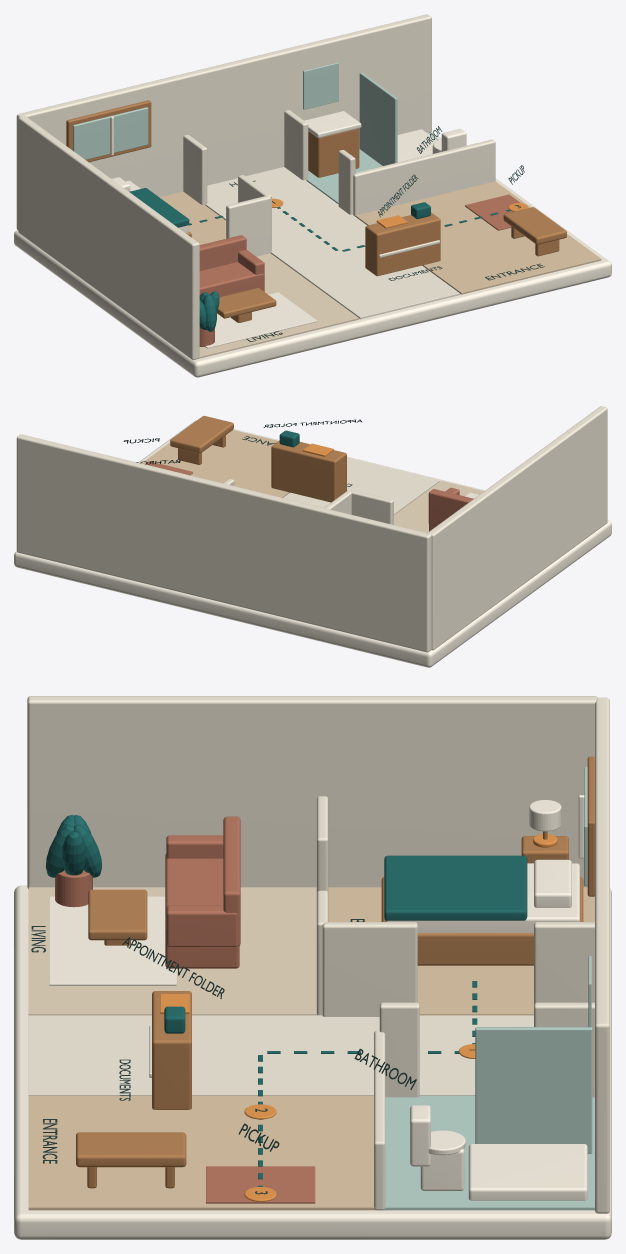
File: home.glb
3 renders of one model, top to bottom at view 1: azimuth 30°, elevation 25°; view 2: azimuth 150°, elevation 25°; view 3: azimuth 270°, elevation 25°, orthographic. The views are drawn at different scales.
Visible parts, largest first — view 1: Back wall, West wall, HALL floor, Apartment base, ENTRANCE floor, Bathroom front wall, LIVING floor, Document shelf, Shower divider, Window glass, Rug, Bedroom partition east (+17 smaller); view 2: Back wall, West wall, Apartment base, ENTRANCE floor, Document shelf, HALL floor, Entry bench, LIVING floor, Bedroom partition east, Sofa back, Bedroom hall wall south; view 3: West wall, ENTRANCE floor, HALL floor, Apartment base, LIVING floor, Shower divider, Duvet, Bedroom hall wall south, BATHROOM floor, BEDROOM floor, Back wall, Rug (+28 smaller).
Part boxes in pixels (x1,y1,x2,y2): Back wall: (16,14,431,230); West wall: (18,116,199,360); HALL floor: (205,167,459,319); Apartment base: (14,131,611,377); ENTRANCE floor: (355,181,601,294); Bathroom front wall: (353,139,495,216); LIVING floor: (199,253,358,358); Document shelf: (365,212,440,276); Shower divider: (359,72,397,165); Window glass: (73,107,148,159); Rug: (205,292,317,348); Bedroom partition east: (226,196,270,256); Back wall: (16,434,431,652); West wall: (427,406,607,650); Apartment base: (14,420,611,667); ENTRANCE floor: (141,430,288,497); Document shelf: (271,440,346,502); HALL floor: (283,457,439,514); Entry bench: (170,415,233,453); LIVING floor: (394,480,483,532); Bedroom partition east: (351,490,393,524); Sofa back: (428,489,473,526); Bedroom hall wall south: (324,490,351,514); West wall: (27,696,597,888); ENTRANCE floor: (28,1095,374,1210); HALL floor: (28,1015,533,1095); Apartment base: (14,885,611,1239); LIVING floor: (28,887,317,1015); Shower divider: (475,1027,592,1153); Duvet: (384,855,527,920); Bedroom hall wall south: (322,922,417,1016); BATHROOM floor: (384,1095,594,1210); BEDROOM floor: (328,887,594,1015); Back wall: (595,697,609,1213); Rug: (49,896,176,985).
Size of the model in its own units: 8.28 by 2.49 by 6.28.
